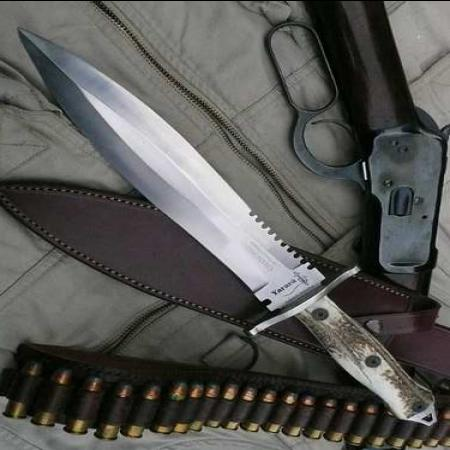long weapon: (14, 20, 328, 301)
